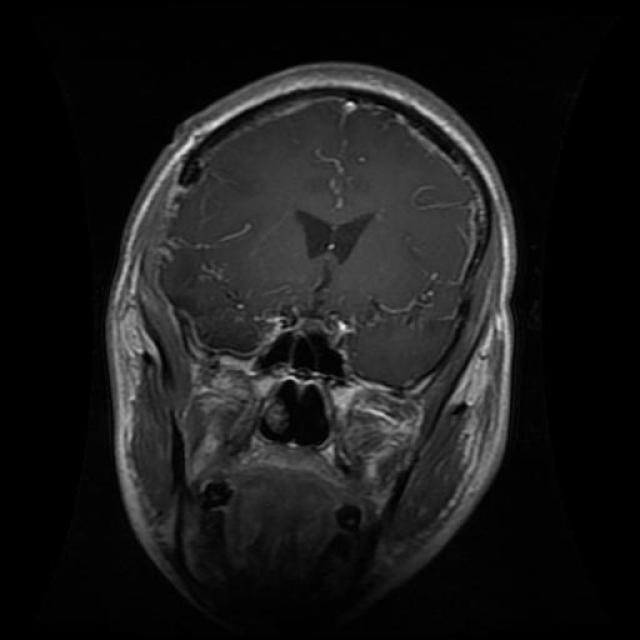glioma: (296, 202, 375, 266)
